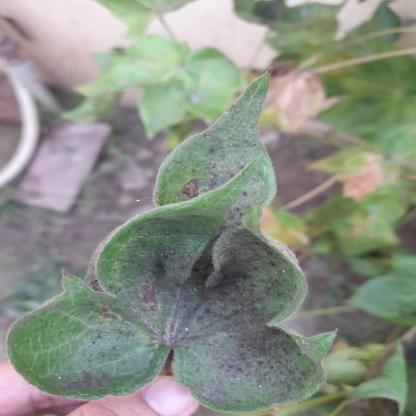curl_stage1: (123, 47, 231, 117), (349, 71, 416, 125), (336, 211, 404, 252), (122, 15, 151, 34)
curl_stage2: (46, 274, 132, 319), (122, 193, 227, 227), (5, 329, 65, 368), (264, 242, 309, 271), (93, 246, 123, 279)
sooty: (134, 253, 262, 340), (204, 334, 316, 395), (176, 144, 275, 202), (65, 342, 145, 398), (134, 228, 227, 257)
